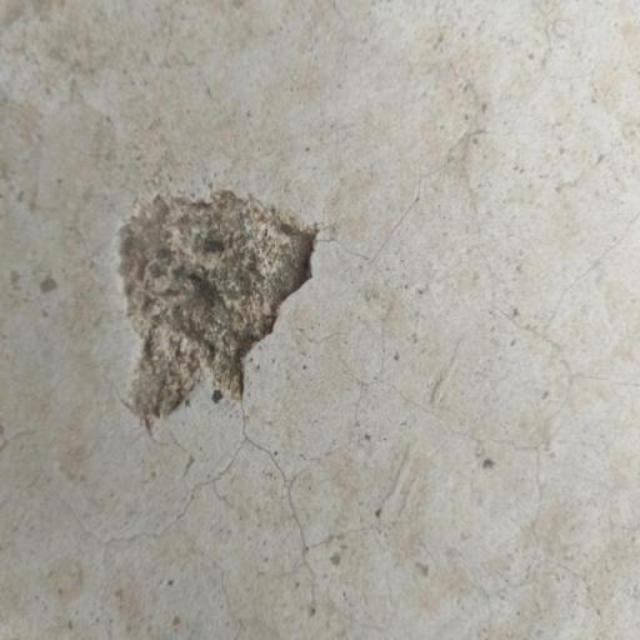D10: (118, 190, 321, 433)
